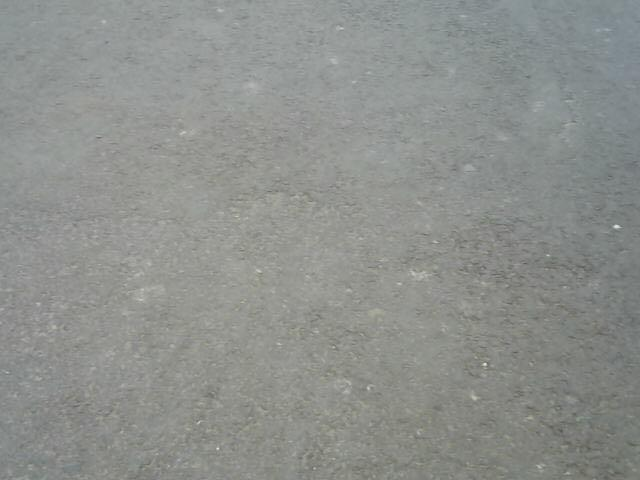Road: (1, 0, 640, 480)
